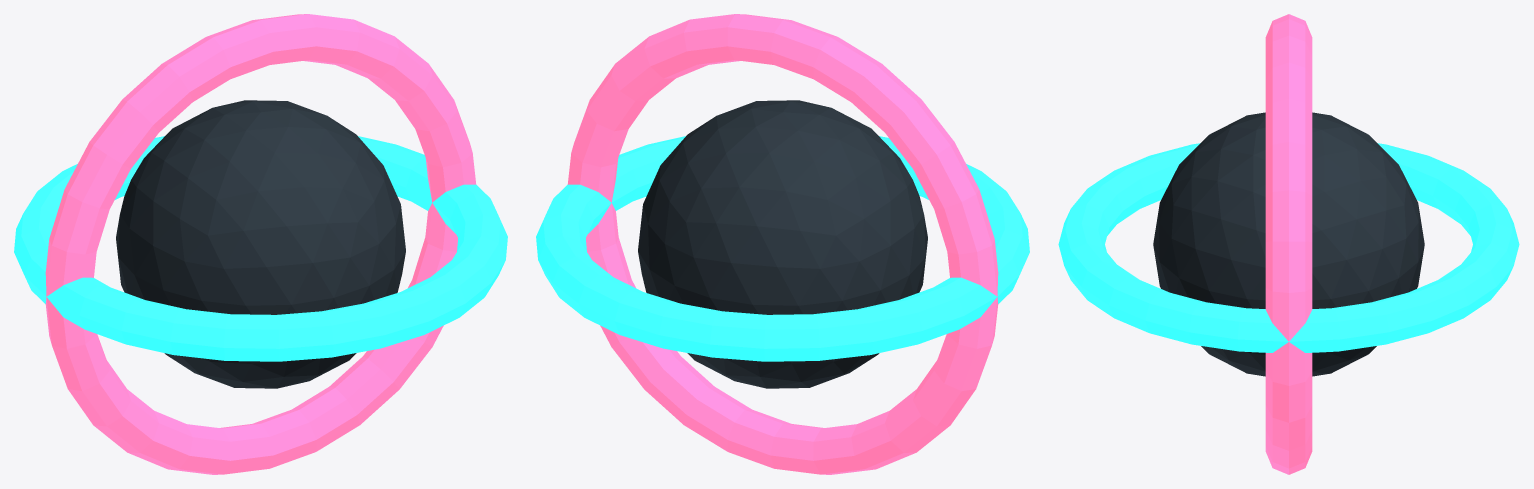
File: grapple-anchor.glb
3 views of the same model, side by side, from view 1: azimuth 30°, elevation 25°; view 2: azimuth 150°, elevation 25°; view 3: azimuth 270°, elevation 25° (orthographic). The views are drawn at different scales.
Visible parts, largest first — view 1: grapple_anchor_surface_00, grapple_anchor_surface_02, grapple_anchor_surface_01; view 2: grapple_anchor_surface_00, grapple_anchor_surface_02, grapple_anchor_surface_01; view 3: grapple_anchor_surface_00, grapple_anchor_surface_01, grapple_anchor_surface_02.
Boxes of the visible parts, x1,y1,x2,y2 form: grapple_anchor_surface_00: (116,100,405,388); grapple_anchor_surface_02: (45,14,476,474); grapple_anchor_surface_01: (14,136,507,361); grapple_anchor_surface_00: (638,100,927,388); grapple_anchor_surface_02: (567,14,998,474); grapple_anchor_surface_01: (536,136,1029,361); grapple_anchor_surface_00: (1153,112,1424,376); grapple_anchor_surface_01: (1058,143,1519,352); grapple_anchor_surface_02: (1265,14,1312,474).
Size of the model in its own units: 1.29 by 1.29 by 1.29.
